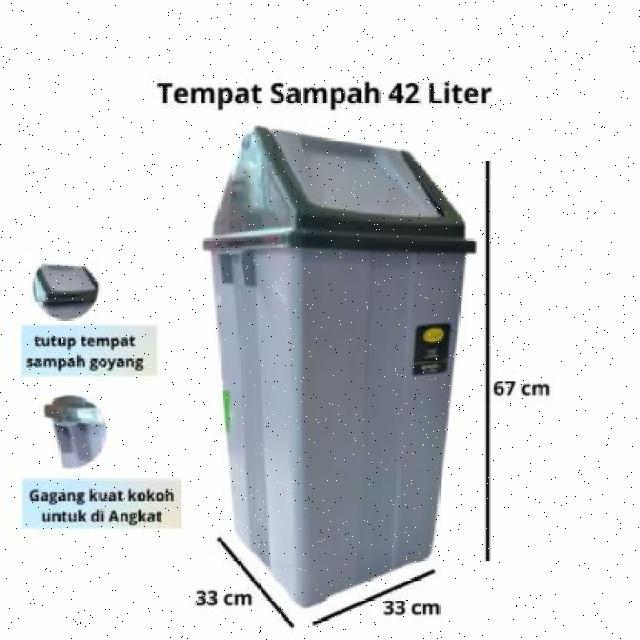garbage container: (193, 119, 482, 622)
